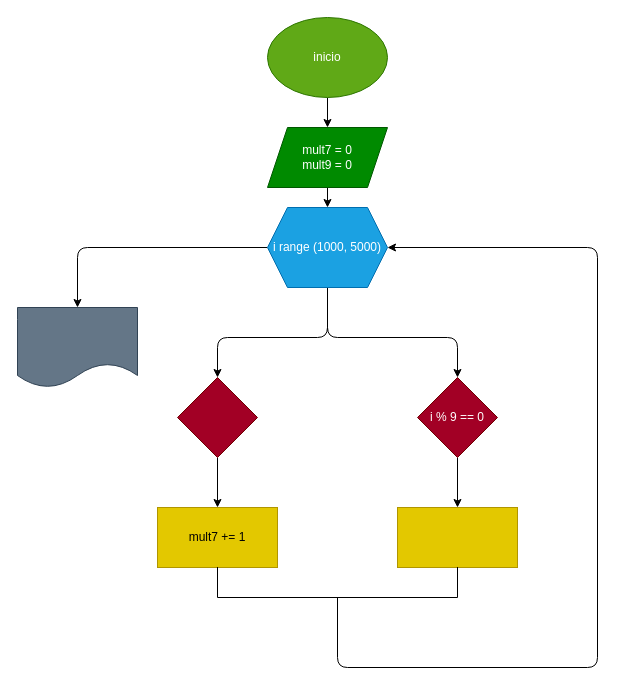
The diagram is 623 pixels wide and 693 high, and some of its shapes have lost their labels. Here are the shapes that lost their labels. From the top down, the centre of each, then its label:
At point 77,347: "hay {mult7) multiplos de 7 hay {mult9} multiplos de 9".
At point 217,417: "i % 7 == 9".
At point 457,537: "mult9 += 1".
